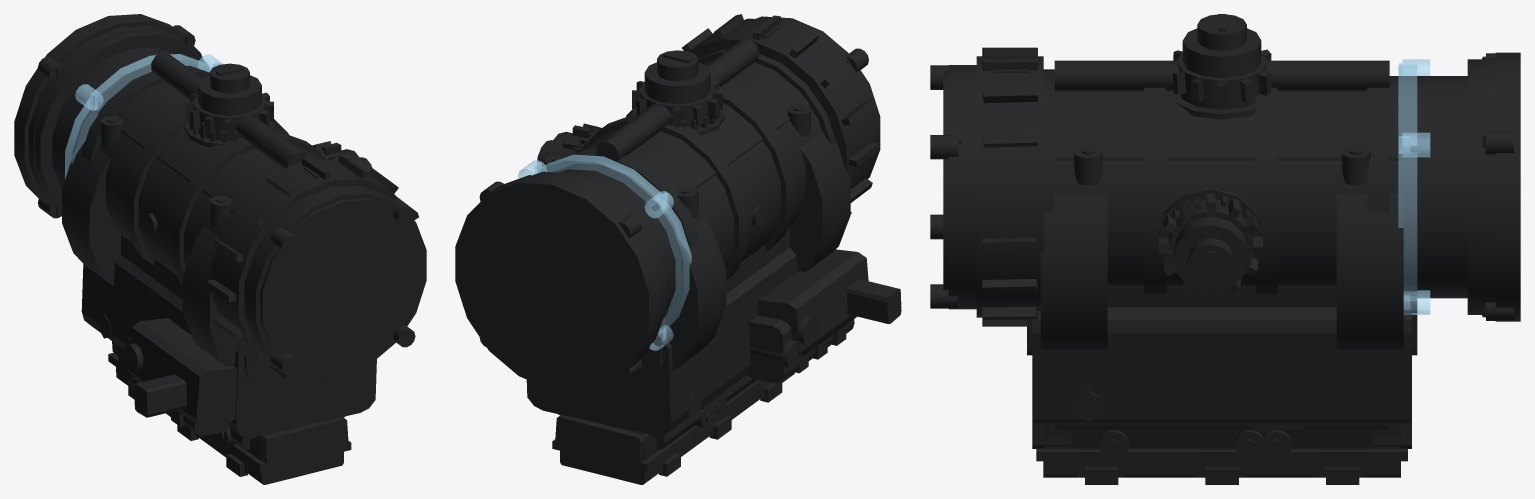
Rendered from attachment_marksman_acog.glb.
3 views of the same model, side by side, from view 1: azimuth 30°, elevation 25°; view 2: azimuth 150°, elevation 25°; view 3: azimuth 270°, elevation 25° (orthographic). The views are drawn at different scales.
Visible parts, largest first — view 1: attachment_marksman_acog__marksman_acog__marksman_acog__body, attachment_marksman_acog__marksman_acog__marksman_acog__moun, attachment_marksman_acog__marksman_acog__marksman_acog__lens; view 2: attachment_marksman_acog__marksman_acog__marksman_acog__body, attachment_marksman_acog__marksman_acog__marksman_acog__moun, attachment_marksman_acog__marksman_acog__marksman_acog__lens; view 3: attachment_marksman_acog__marksman_acog__marksman_acog__body, attachment_marksman_acog__marksman_acog__marksman_acog__moun, attachment_marksman_acog__marksman_acog__marksman_acog__lens.
Part boxes in pixels (<box>): attachment_marksman_acog__marksman_acog__marksman_acog__body: <box>14,14,426,484</box>; attachment_marksman_acog__marksman_acog__marksman_acog__moun: <box>98,116,345,476</box>; attachment_marksman_acog__marksman_acog__marksman_acog__lens: <box>65,54,222,178</box>; attachment_marksman_acog__marksman_acog__marksman_acog__body: <box>455,14,901,484</box>; attachment_marksman_acog__marksman_acog__marksman_acog__moun: <box>544,104,854,476</box>; attachment_marksman_acog__marksman_acog__marksman_acog__lens: <box>518,154,691,350</box>; attachment_marksman_acog__marksman_acog__marksman_acog__body: <box>930,14,1520,477</box>; attachment_marksman_acog__marksman_acog__marksman_acog__moun: <box>1038,146,1389,484</box>; attachment_marksman_acog__marksman_acog__marksman_acog__lens: <box>1398,59,1430,314</box>.
Bounding box in the file's own units: 0.0721 × 0.0863 × 0.1058.
